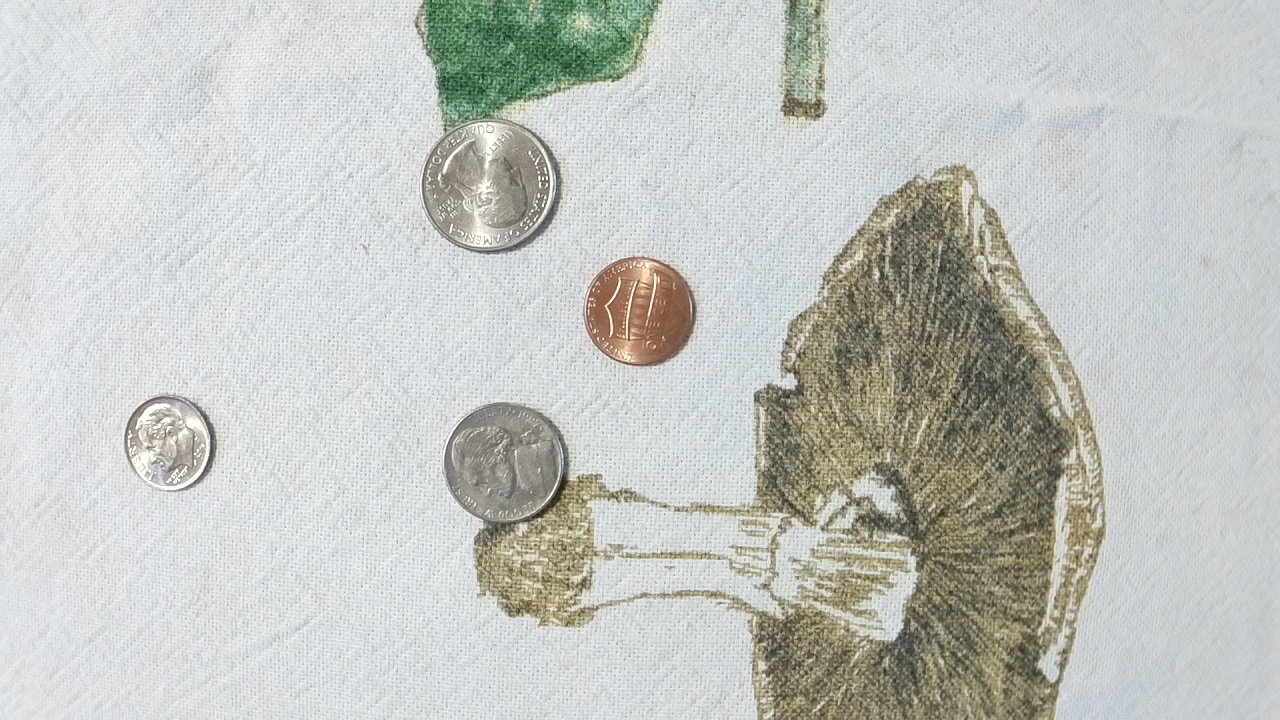dime: (122, 394, 216, 494)
nickel: (438, 401, 570, 525)
penny: (580, 253, 698, 369)
quarter: (418, 116, 562, 256)
